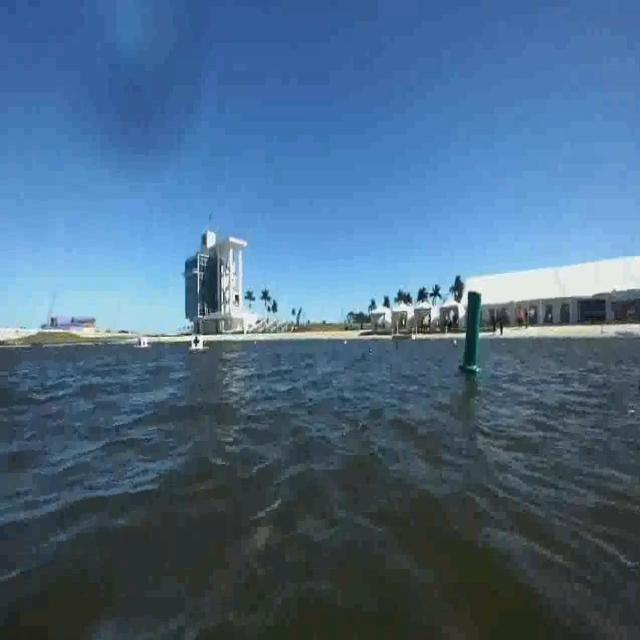green-column-buoy: (459, 288, 485, 378)
